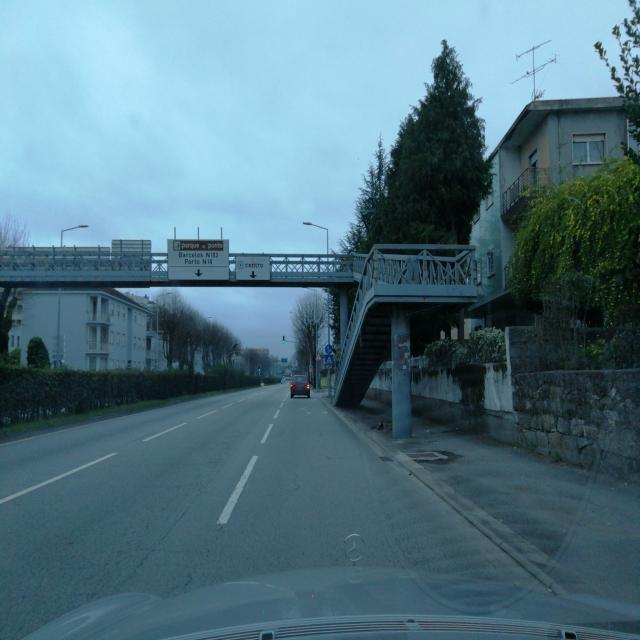car: (290, 374, 311, 399)
